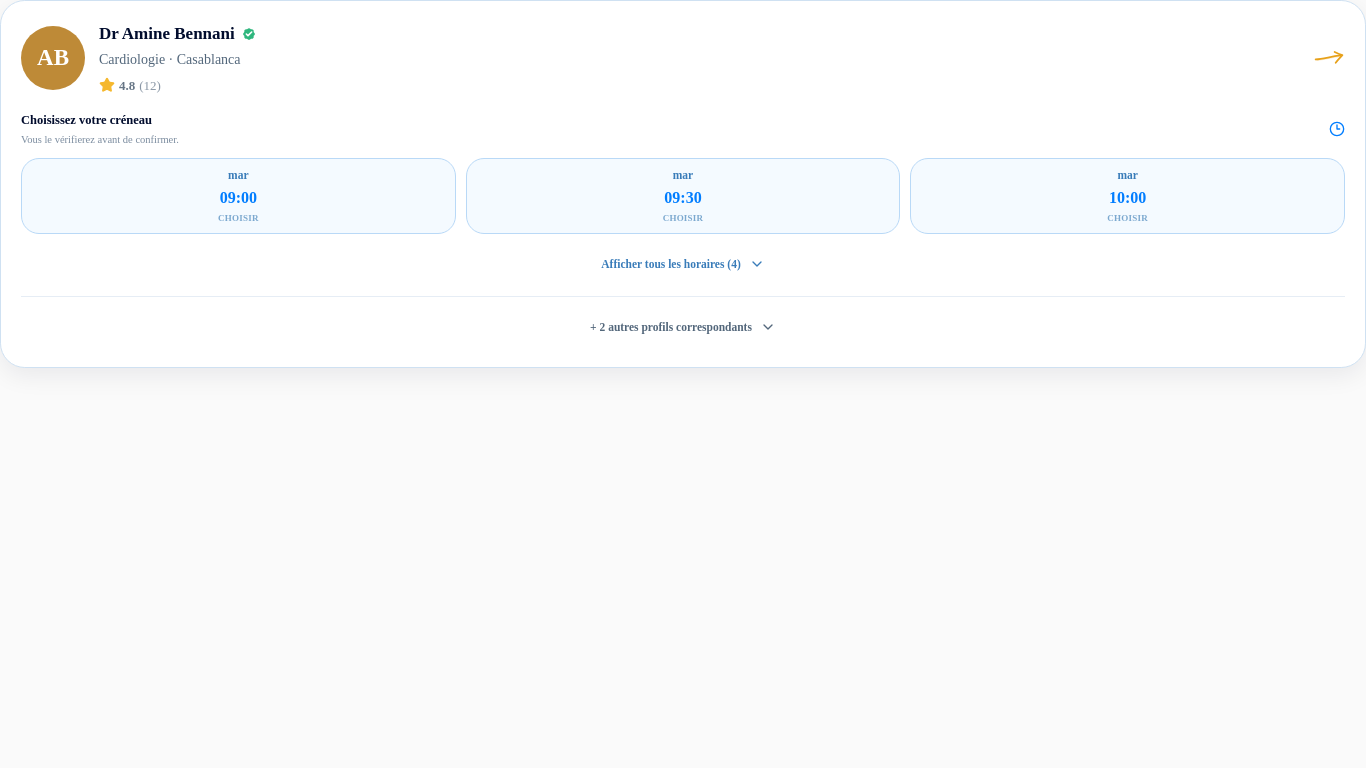
Scenario: AgentCartes › la correspondance permet de développer les profils et tous les horaires
The width and height of the screenshot is (1366, 768).
Expected: the text "Dr Amine Bennani" is shown, [99, 21, 235, 46]
Expected: the text "Dr Sara Alami" is not shown
Click the button "+ 2 autres profils correspondants": {"x": 683, "y": 327} [21, 307, 1345, 347]
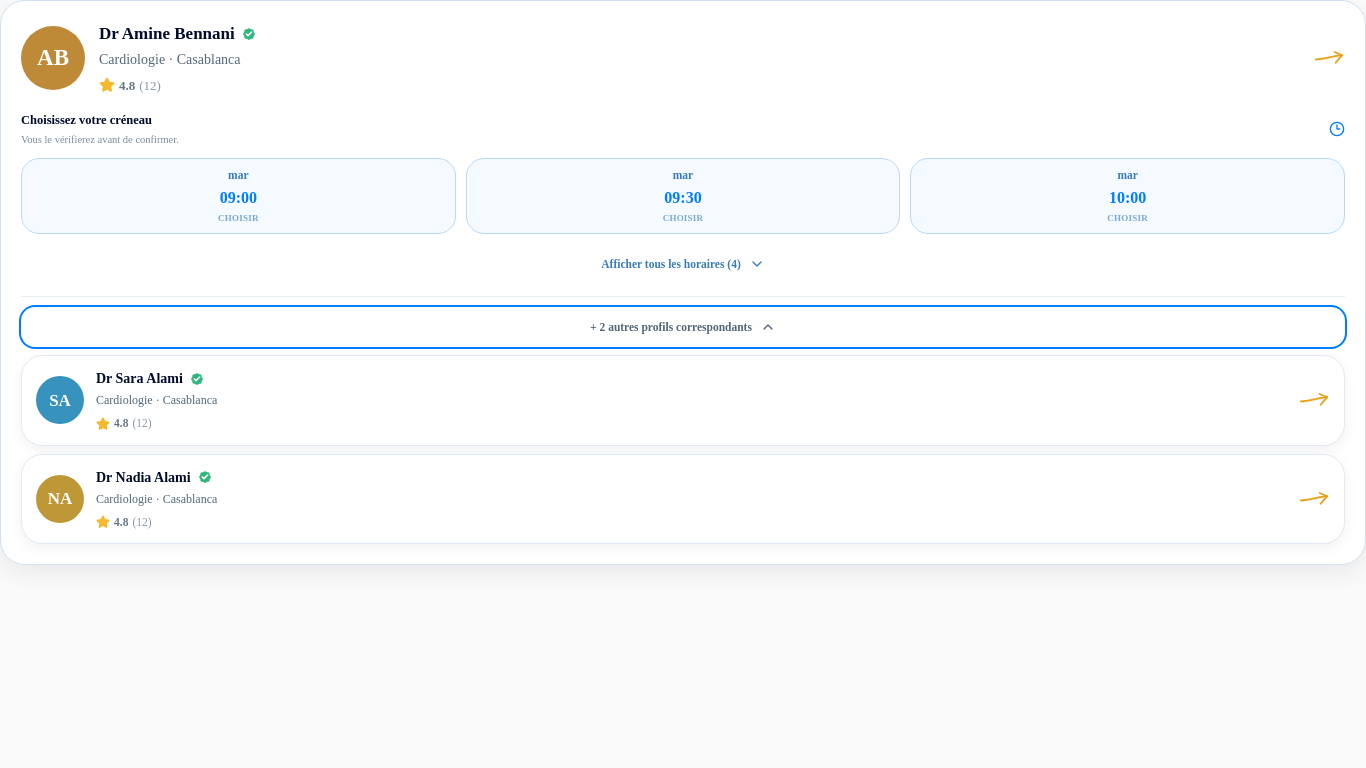
Result: the text "Dr Sara Alami" is shown at [96, 368, 183, 389]
Result: the text "Dr Nadia Alami" is shown at [96, 466, 191, 488]
Click the button "Afficher tous les horaires (4)": {"x": 683, "y": 264} [21, 244, 1345, 284]
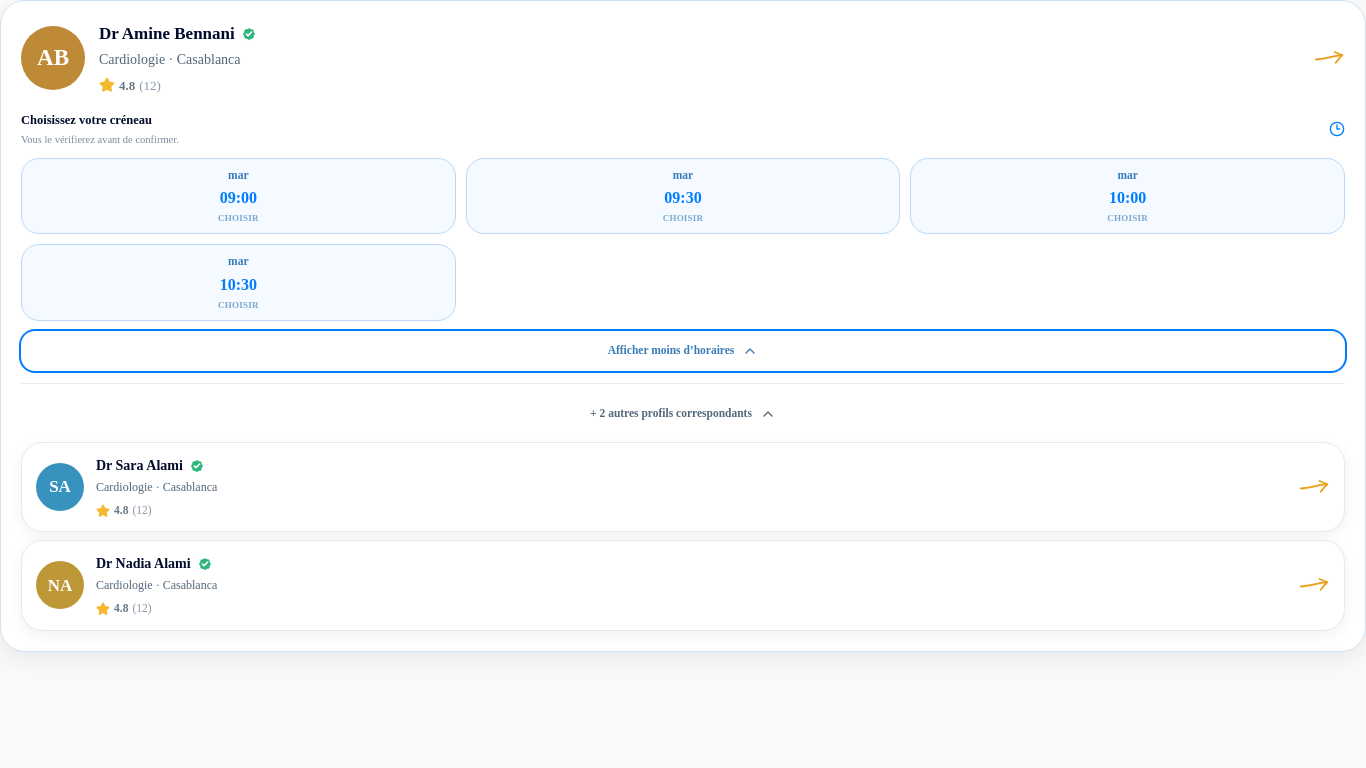
Result: the button "mar 10:30 Choisir" is shown at [21, 244, 456, 321]
Result: the button "Afficher moins d’horaires" is expanded at [21, 331, 1345, 371]
